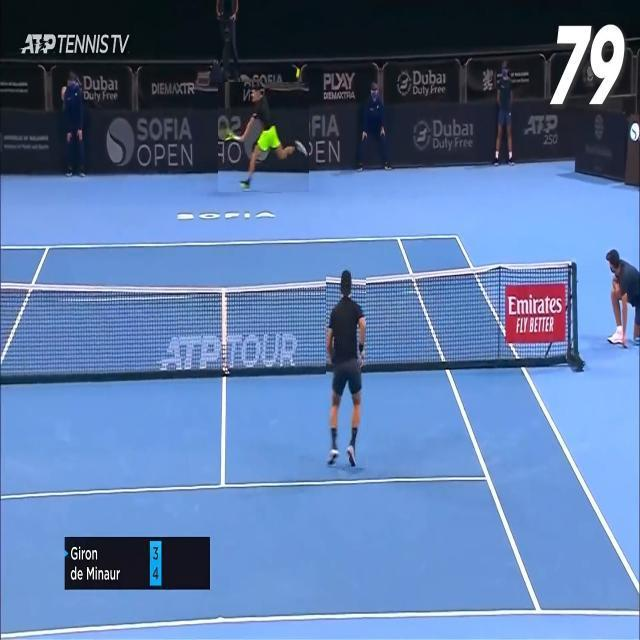net: (0, 259, 580, 378)
player: (218, 82, 309, 192), (326, 270, 366, 470)
